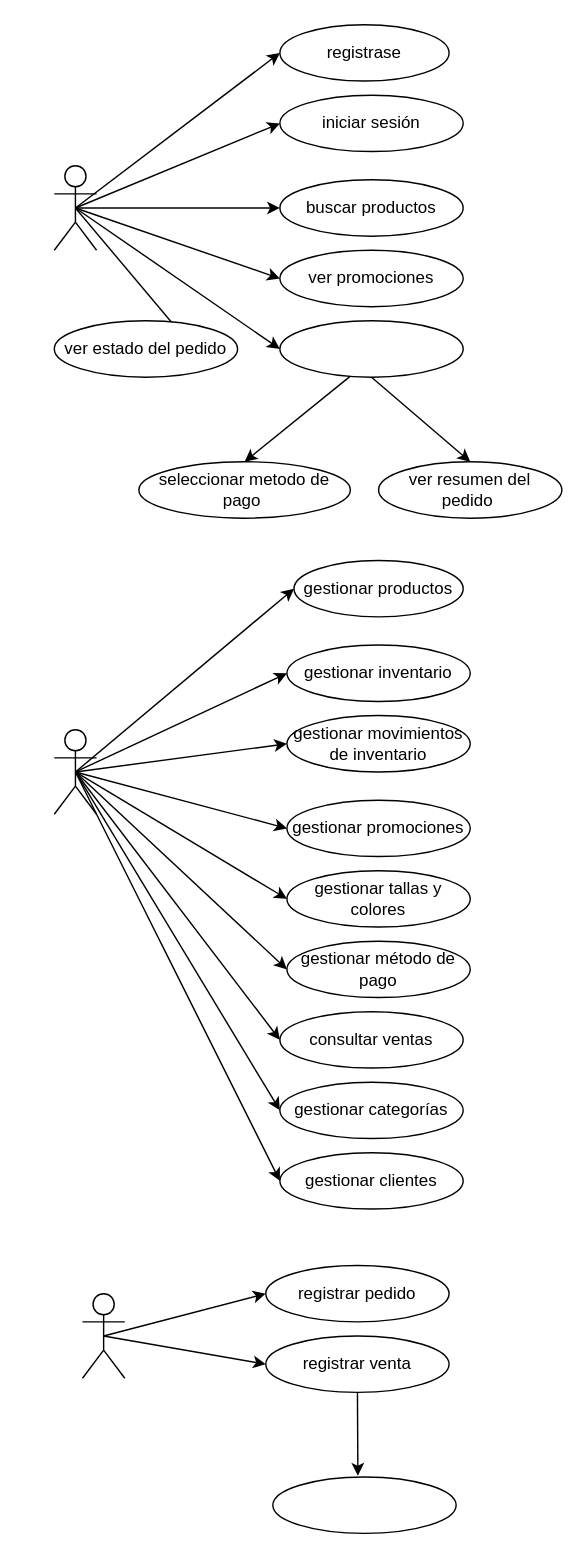
The diagram is 587 pixels wide and 1558 high, and some of its shapes have lost their labels. The box of each missing label's shape, as (x1, y1, x2, y2) in pixels:
administrador: (53, 728, 97, 814)
Cliente: (53, 164, 97, 250)
empleadoventas: (81, 1292, 125, 1378)
realizar pedido: (278, 319, 463, 377)
seleccionar pedido existente: (271, 1476, 456, 1533)
